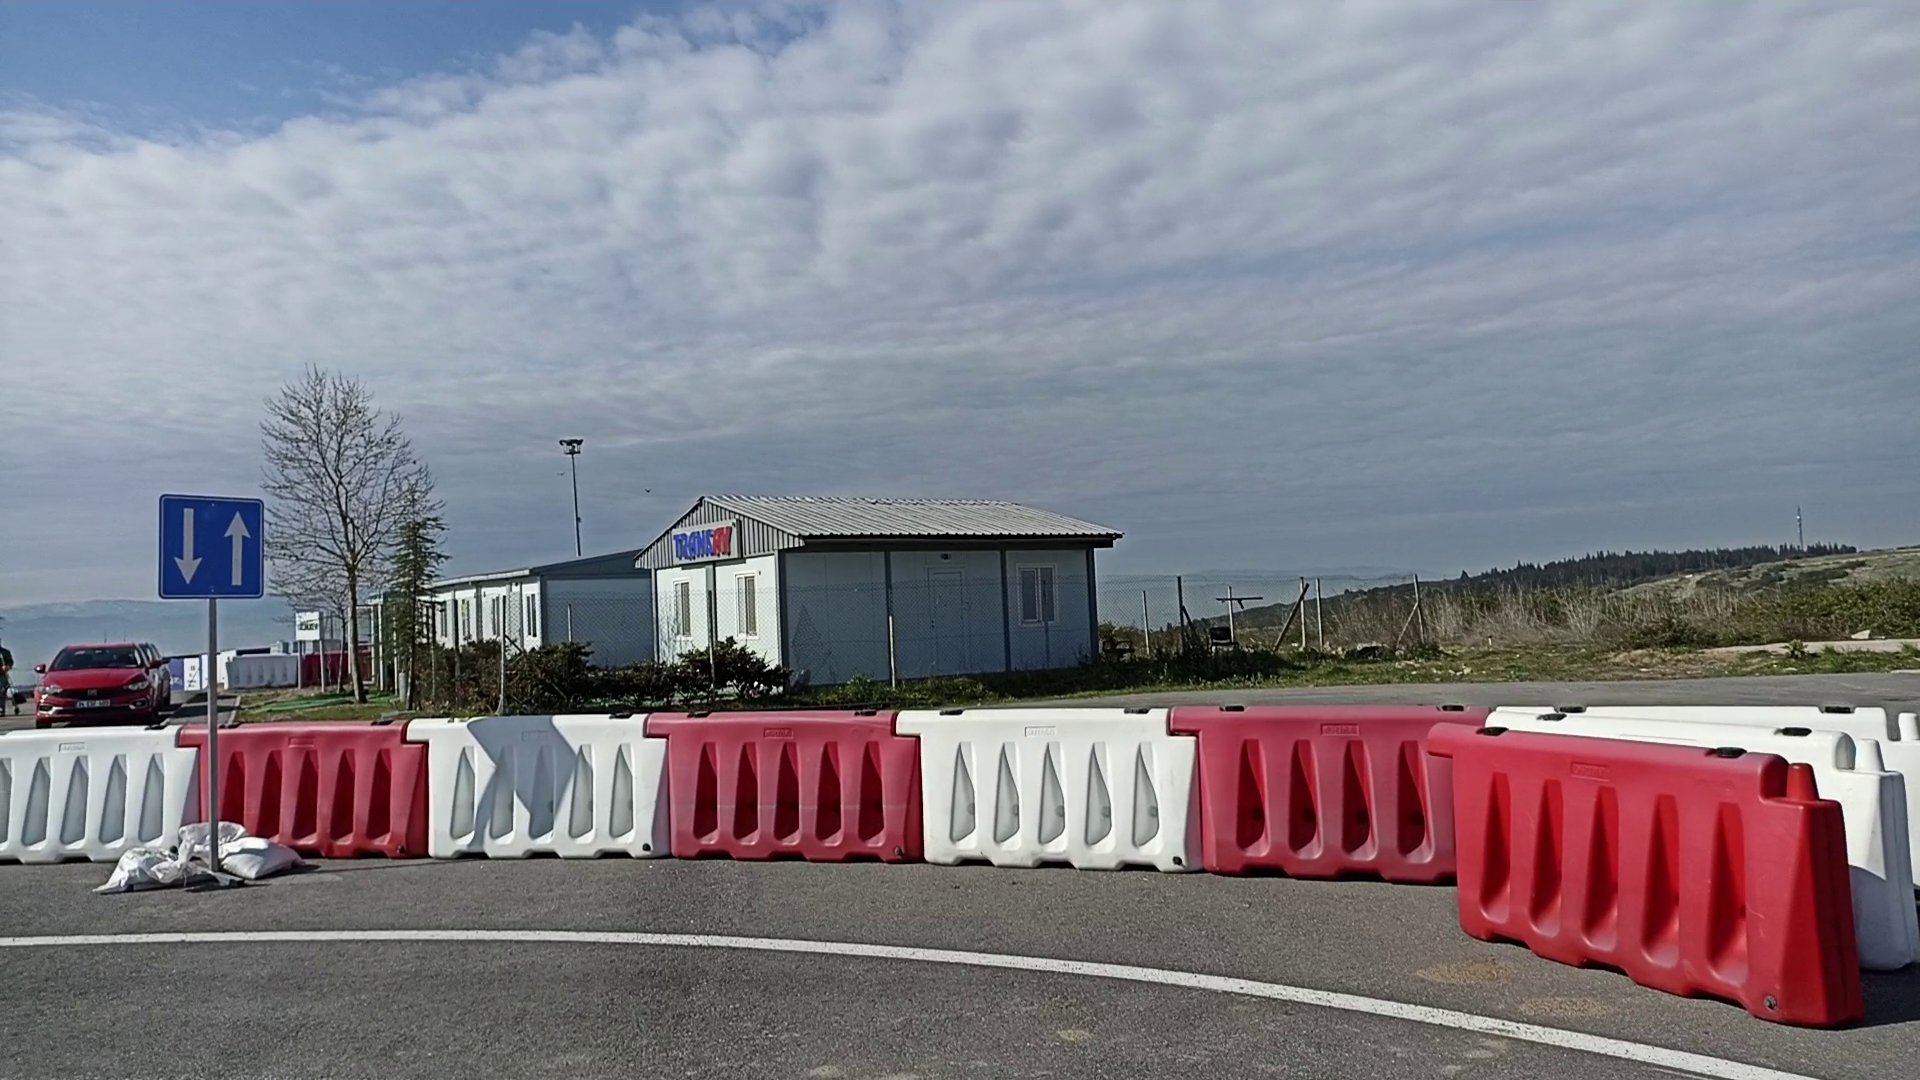oneway: (157, 492, 266, 603)
